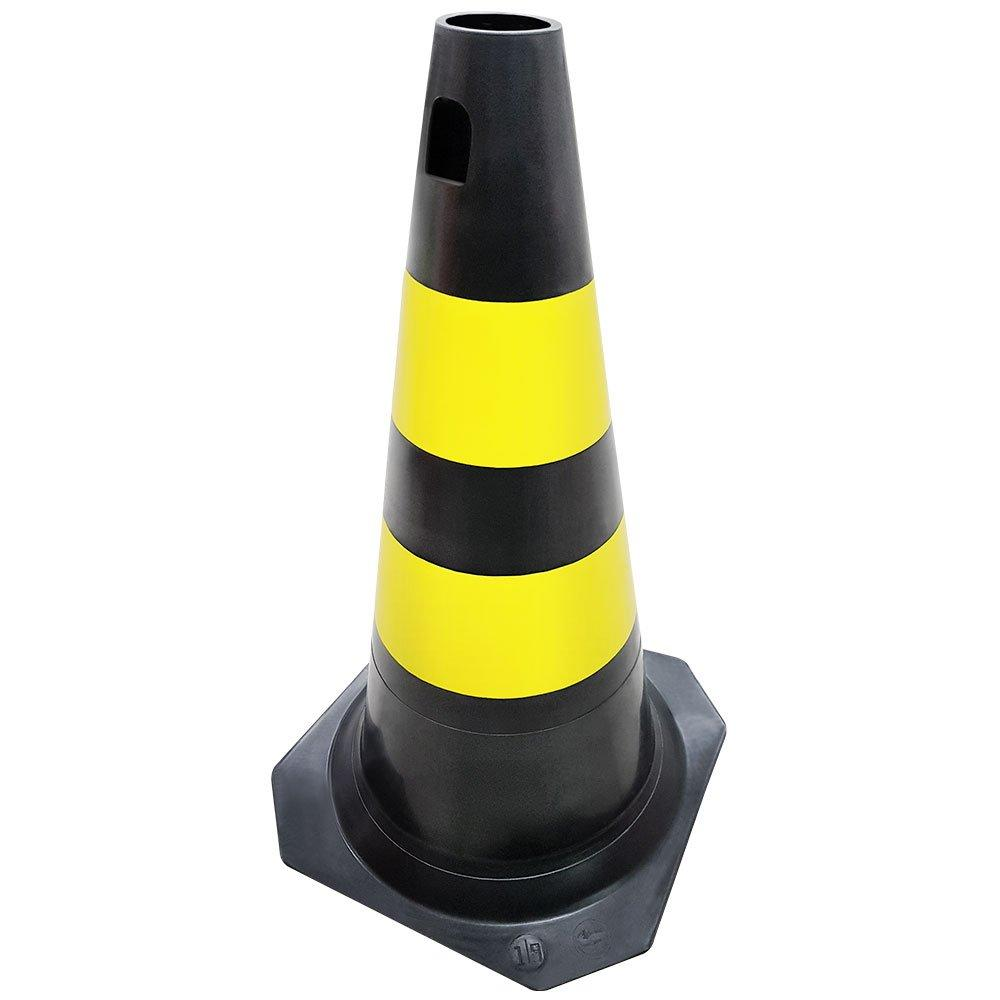traffic_cone: (270, 10, 728, 991)
